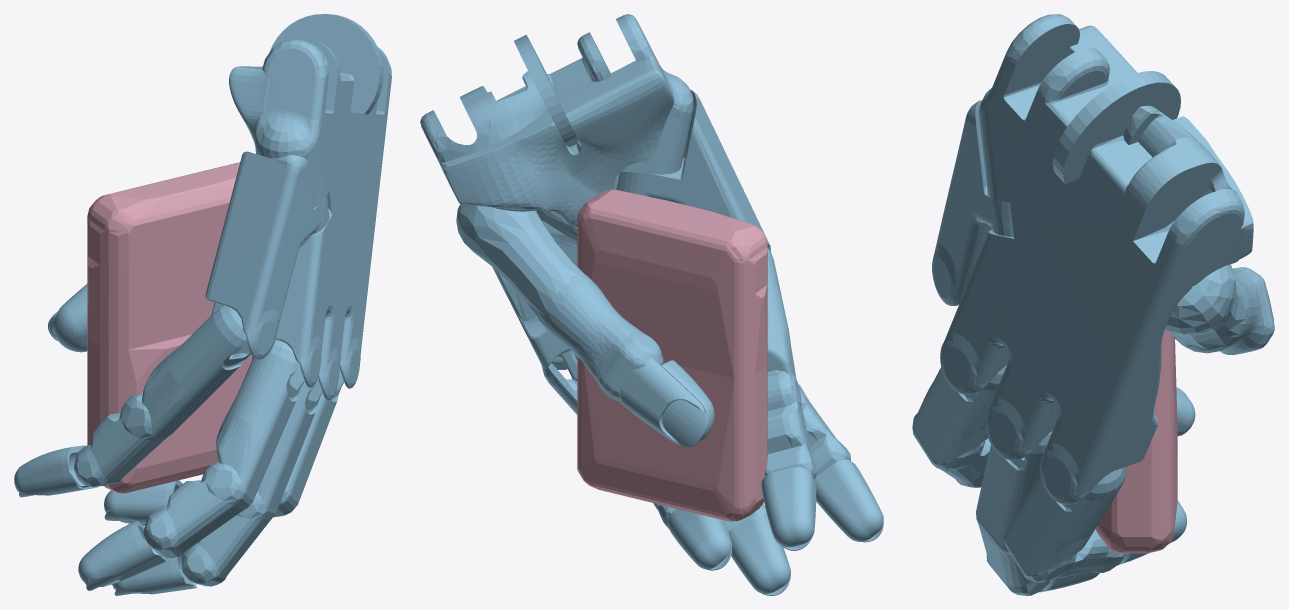
The picture shows the model from 3 angles, left to right: view 1: azimuth 30°, elevation 25°; view 2: azimuth 150°, elevation 25°; view 3: azimuth 270°, elevation 25°; orthographic projection. The views are drawn at different scales.
Parts seen in each view (by area): view 1: hand_isaac_q, world; view 2: hand_isaac_q, world; view 3: hand_isaac_q, world.
Boxes of the visible parts, box(x1,y1,x2,y2) form: hand_isaac_q: box(14, 14, 391, 595); world: box(87, 162, 252, 493); hand_isaac_q: box(420, 14, 883, 595); world: box(577, 189, 767, 521); hand_isaac_q: box(912, 14, 1274, 595); world: box(1095, 329, 1177, 553).
Bounding box in the file's own units: 0.1447 × 0.1905 × 0.0957.
